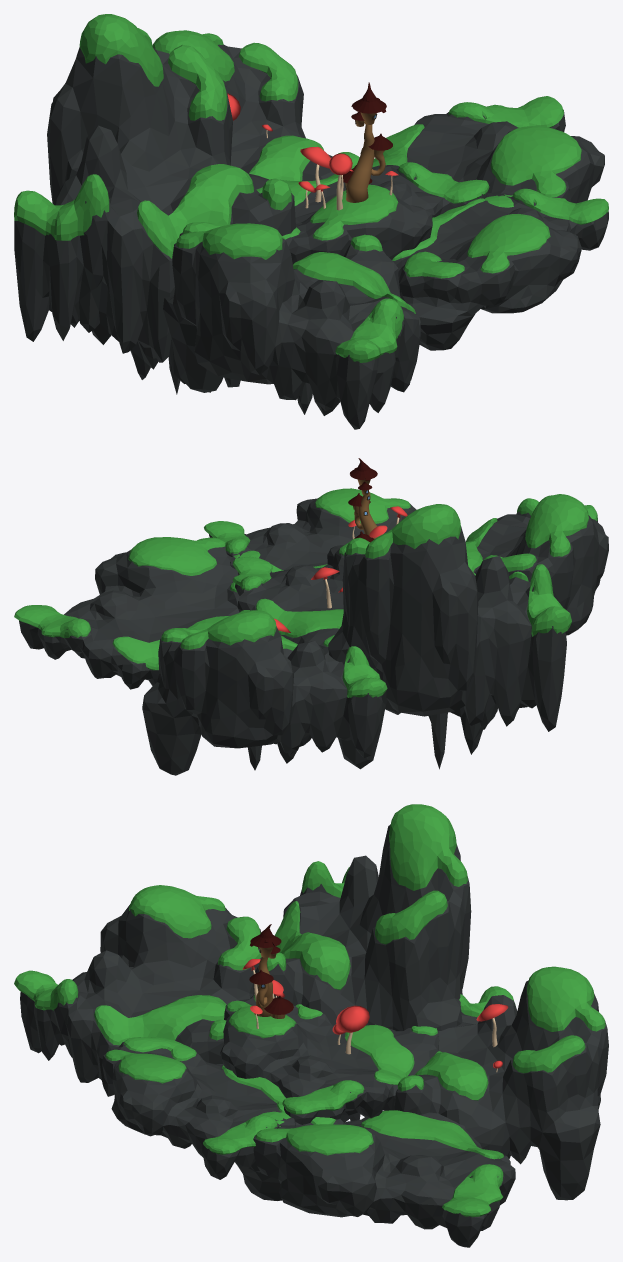
File: MushroomIsland.fbx
The picture shows the model from 3 angles, top to bottom: view 1: azimuth 30°, elevation 25°; view 2: azimuth 150°, elevation 25°; view 3: azimuth 270°, elevation 25°; orthographic projection. The views are drawn at different scales.
Parts seen in each view (by area): view 1: earth.001_Cube.002, earth.004_Cube.008, grass.001_Cube.003, earth.003_Cube.006, grass.004_Cube.009, grass.005_Cube.011, earth.005_Cube.010, grass.003_Cube.007, earth_Cube.013, grass.002_Cube.005, earth.002_Cube.004, grass_Cube.001 (+2 smaller); view 2: earth.001_Cube.002, earth.002_Cube.004, earth.005_Cube.010, earth.004_Cube.008, grass.005_Cube.011, grass.001_Cube.003, earth.003_Cube.006, earth_Cube.013, grass.004_Cube.009, grass.002_Cube.005, grass_Cube.001, grass.003_Cube.007; view 3: earth.001_Cube.002, earth.002_Cube.004, earth.004_Cube.008, earth.005_Cube.010, grass.001_Cube.003, earth_Cube.013, earth.003_Cube.006, grass.004_Cube.009, grass.002_Cube.005, grass.005_Cube.011, grass_Cube.001, grass.003_Cube.007 (+1 smaller).
Part boxes in pixels (box(x1,y1,x2,y2)): earth.001_Cube.002: box(14, 46, 295, 394); earth.004_Cube.008: box(163, 232, 421, 429); grass.001_Cube.003: box(14, 14, 291, 258); earth.003_Cube.006: box(393, 193, 608, 350); grass.004_Cube.009: box(176, 222, 415, 362); grass.005_Cube.011: box(372, 96, 581, 207); earth.005_Cube.010: box(407, 110, 604, 203); grass.003_Cube.007: box(392, 188, 608, 278); earth_Cube.013: box(248, 165, 487, 264); grass.002_Cube.005: box(152, 30, 359, 180); earth.002_Cube.004: box(218, 44, 334, 180); grass_Cube.001: box(256, 162, 489, 240); earth.001_Cube.002: box(328, 526, 566, 769); earth.002_Cube.004: box(142, 626, 382, 775); earth.005_Cube.010: box(19, 546, 239, 689); earth.004_Cube.008: box(473, 511, 608, 635); grass.005_Cube.011: box(14, 537, 260, 670); grass.001_Cube.003: box(346, 504, 571, 636); earth.003_Cube.006: box(209, 498, 416, 569); earth_Cube.013: box(235, 545, 344, 648); grass.004_Cube.009: box(465, 494, 597, 571); grass.002_Cube.005: box(161, 610, 387, 697); grass_Cube.001: box(232, 543, 347, 646); grass.003_Cube.007: box(204, 488, 410, 572); earth.001_Cube.002: box(253, 824, 471, 1122); earth.002_Cube.004: box(394, 980, 608, 1200); earth.004_Cube.008: box(20, 905, 261, 1096); earth.005_Cube.010: box(238, 1111, 515, 1247); grass.001_Cube.003: box(266, 804, 467, 989); earth_Cube.013: box(220, 994, 439, 1124); earth.003_Cube.006: box(102, 1041, 295, 1179); grass.004_Cube.009: box(14, 885, 261, 1045); grass.002_Cube.005: box(397, 966, 605, 1100); grass.005_Cube.011: box(255, 1110, 503, 1217); grass_Cube.001: box(226, 995, 437, 1114); grass.003_Cube.007: box(105, 1037, 285, 1154).
Size of the model in its own units: 4082 by 2279 by 3879.
